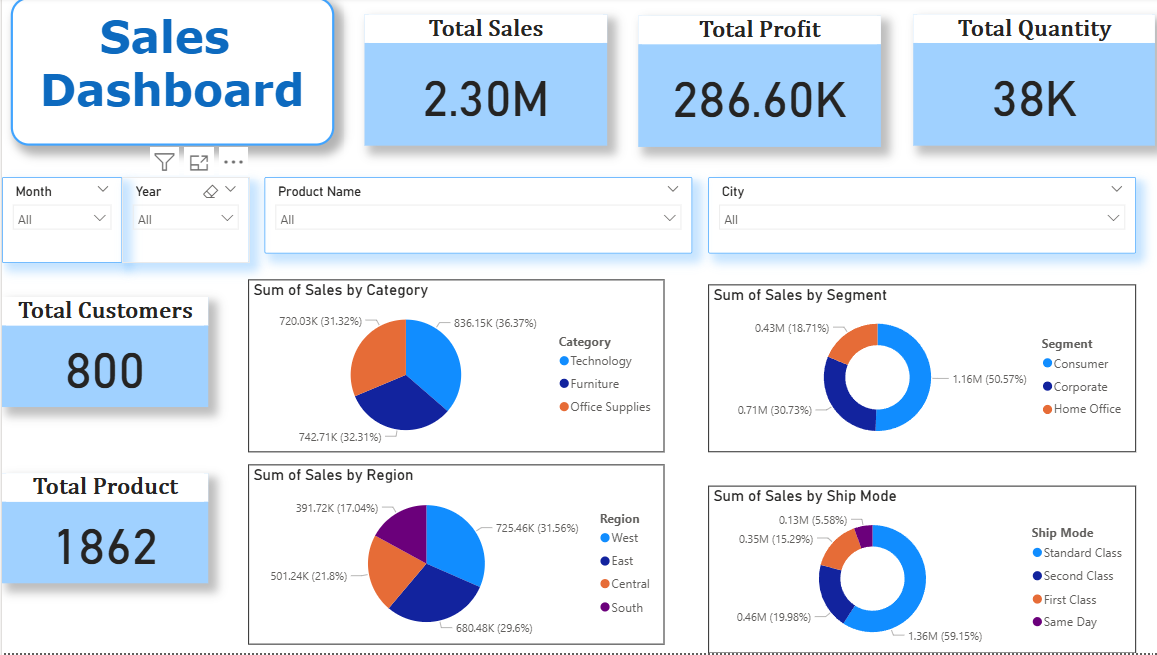

Layout of this report page (visuals, bound fields, positions):
{"tool":"powerbi","page":{"name":"Page 1","canvas":[1280,720],"ordinal":0},"visuals":[{"type":"textbox","box":[9.6,0,355.4,163.3],"z":0},{"type":"slicer","fields":{"Values":["Sales Overview Data xlsx - Sales Data.City"]},"box":[775.3,197.6,469.3,83.7],"z":1},{"type":"slicer","fields":{"Values":["Sales Overview Data xlsx - Sales Data.Product Name"]},"box":[288.2,197.6,469.3,83.7],"z":2},{"type":"slicer","fields":{"Values":["Sales Overview Data xlsx - Sales Data.Order Date.Variation.Date Hierarchy.Month"]},"box":[0,197.6,131.7,94.7],"z":3},{"type":"slicer","fields":{"Values":["Sales Overview Data xlsx - Sales Data.Order Date.Variation.Date Hierarchy.Year"]},"box":[131.7,197.6,140,94.7],"z":4},{"type":"card","title":"Total Sales","fields":{"Values":["Sum(Sales Overview Data xlsx - Sales Data.Sales)"]},"box":[397.9,19.2,266.2,144.1],"z":5},{"type":"card","title":"Total Profit","fields":{"Values":["Sum(Sales Overview Data xlsx - Sales Data.Profit)"]},"box":[698.5,20.6,266.2,144.1],"z":6},{"type":"card","title":"Total Quantity","fields":{"Values":["Sum(Sales Overview Data xlsx - Sales Data.Quantity)"]},"box":[1000.3,19.2,266.2,144.1],"z":7},{"type":"card","title":"Total Product","fields":{"Values":["Count(Sales Overview Data xlsx - Sales Data.Product ID)"]},"box":[0,522.8,226.4,120.8],"z":8},{"type":"card","title":"Total Customers","fields":{"Values":["Count(Sales Overview Data xlsx - Sales Data.Customer ID)"]},"box":[0,329.3,226.4,120.8],"z":9},{"type":"pieChart","fields":{"Y":["Sum(Sales Overview Data xlsx - Sales Data.Sales)"],"Category":["Sales Overview Data xlsx - Sales Data.Category"]},"box":[270.3,310.1,456.9,189.4],"z":10},{"type":"pieChart","fields":{"Y":["Sum(Sales Overview Data xlsx - Sales Data.Sales)"],"Category":["Sales Overview Data xlsx - Sales Data.Region"]},"box":[270.3,513.2,456.9,197.6],"z":11},{"type":"donutChart","fields":{"Y":["Sum(Sales Overview Data xlsx - Sales Data.Sales)"],"Category":["Sales Overview Data xlsx - Sales Data.Segment"]},"box":[775.3,315.6,469.3,183.9],"z":12},{"type":"donutChart","fields":{"Y":["Sum(Sales Overview Data xlsx - Sales Data.Sales)"],"Category":["Sales Overview Data xlsx - Sales Data.Ship Mode"]},"box":[775.3,536.5,469.3,183.9],"z":13}]}

Visuals, with their boxes in screenshot pixels (x1, y1, x2, y2), scaled from the page's 1280x720 canvas onto the 1157x655 screenshot:
textbox: select_region(9, 0, 330, 149)
slicer - Sales Overview Data xlsx - Sales Data.City: select_region(701, 180, 1125, 256)
slicer - Sales Overview Data xlsx - Sales Data.Product Name: select_region(261, 180, 685, 256)
slicer - Sales Overview Data xlsx - Sales Data.Order Date.Variation.Date Hierarchy.Month: select_region(0, 180, 119, 266)
slicer - Sales Overview Data xlsx - Sales Data.Order Date.Variation.Date Hierarchy.Year: select_region(119, 180, 246, 266)
"Total Sales" card: select_region(360, 17, 600, 149)
"Total Profit" card: select_region(631, 19, 872, 150)
"Total Quantity" card: select_region(904, 17, 1145, 149)
"Total Product" card: select_region(0, 476, 205, 585)
"Total Customers" card: select_region(0, 300, 205, 409)
pieChart - Sum(Sales Overview Data xlsx - Sales Data.Sales) x Sales Overview Data xlsx - Sales Data.Category: select_region(244, 282, 657, 454)
pieChart - Sum(Sales Overview Data xlsx - Sales Data.Sales) x Sales Overview Data xlsx - Sales Data.Region: select_region(244, 467, 657, 647)
donutChart - Sum(Sales Overview Data xlsx - Sales Data.Sales) x Sales Overview Data xlsx - Sales Data.Segment: select_region(701, 287, 1125, 454)
donutChart - Sum(Sales Overview Data xlsx - Sales Data.Sales) x Sales Overview Data xlsx - Sales Data.Ship Mode: select_region(701, 488, 1125, 654)
